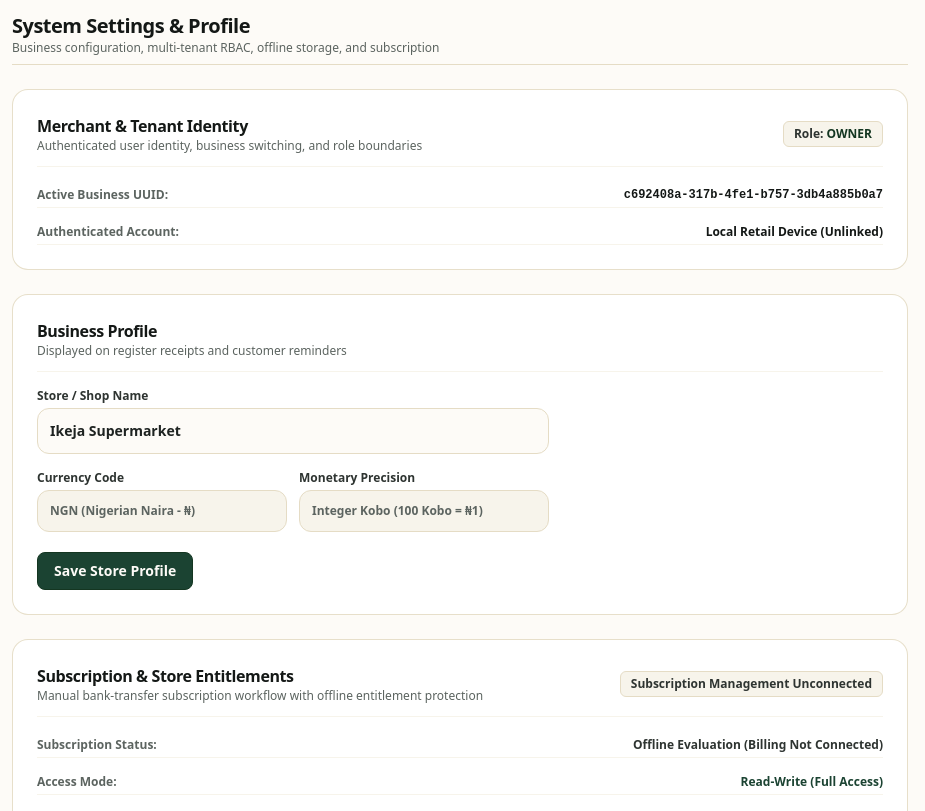
Test: MSME Ledger — Frontend Redesign (FE-01) Suite › 7. Settings Business Identity & Offline Metrics › allows updating shop name and displays local storage record counts
Expected: the heading "System Settings & Profile" is shown, x1=12 y1=12 x2=250 y2=39
Expected: the field showing "NGN (Nigerian Naira - ₦)" below "Currency Code" is shown, x1=37 y1=490 x2=287 y2=532
# Change shop name
Replace the text in the field showing "Ikeja Supermarket" with "Lagos Island Mega Store". click: (293, 431)
box: x1=37 y1=408 x2=549 y2=454
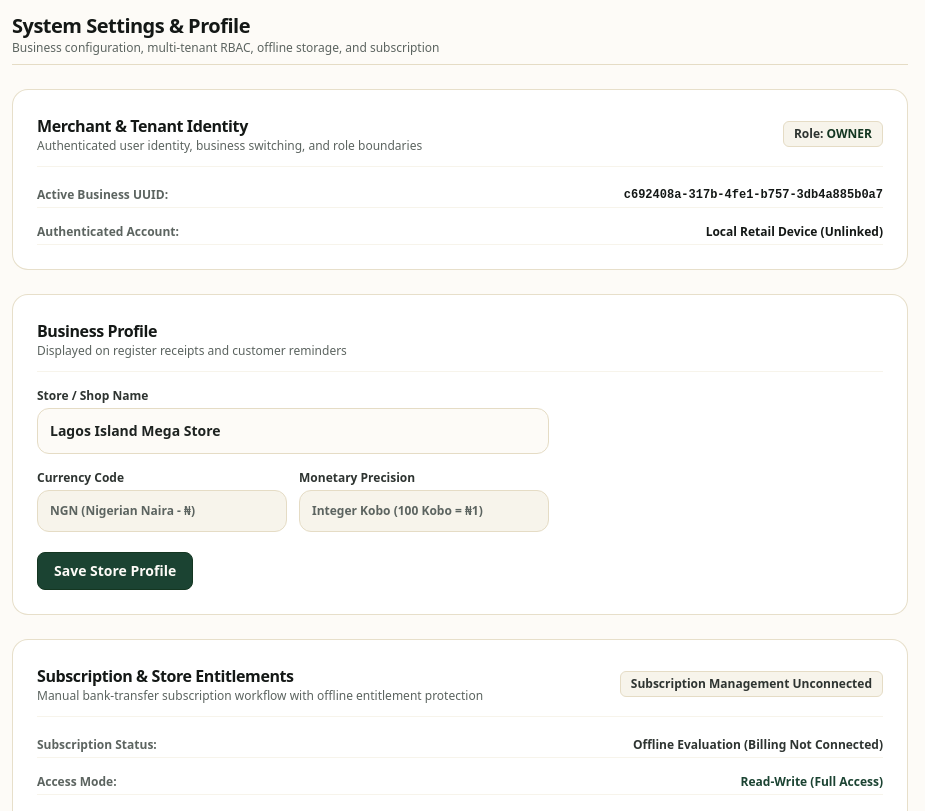
Click the button "Save Store Profile". click: (115, 571)
box: x1=37 y1=552 x2=193 y2=590
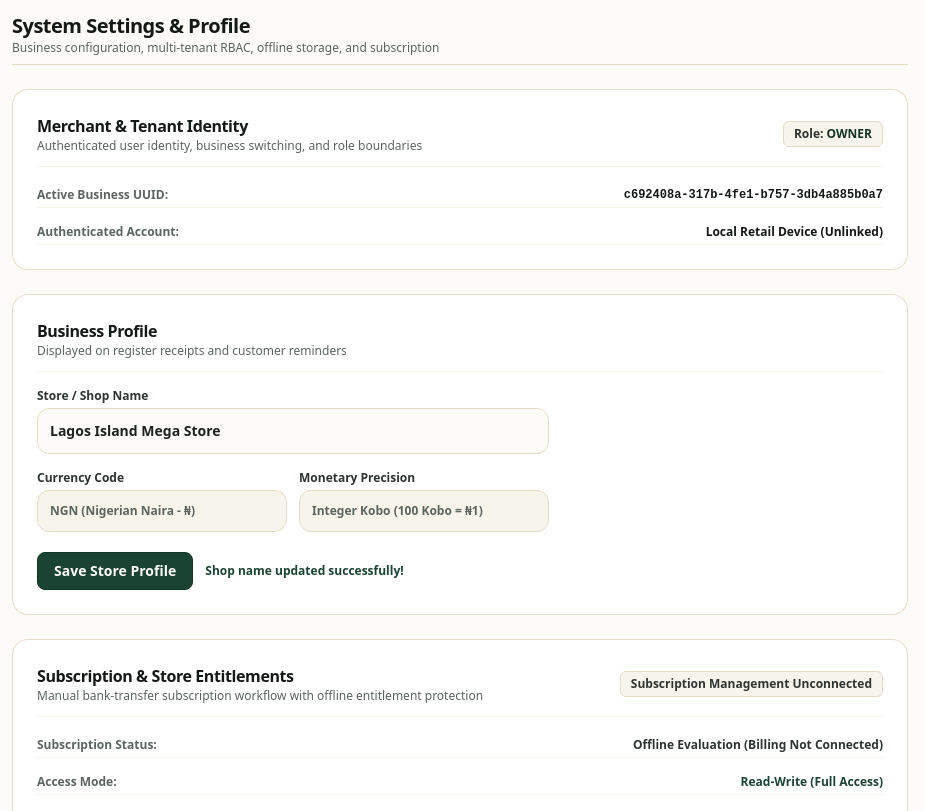
Expected: the text "Shop name updated successfully!" is shown, x1=205 y1=563 x2=404 y2=579
